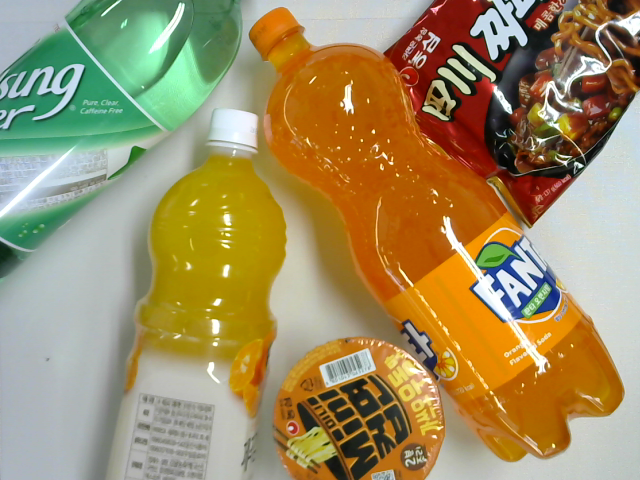Chilseong_Cider_1.5L: (1, 1, 242, 280)
Hwanta_Orange_1.5L: (248, 7, 628, 462)
Jeju_Tangerine_1.5L: (106, 108, 286, 480)
Sichuan_Chapaghetti: (380, 1, 640, 230)
Udongmini: (272, 336, 447, 480)
